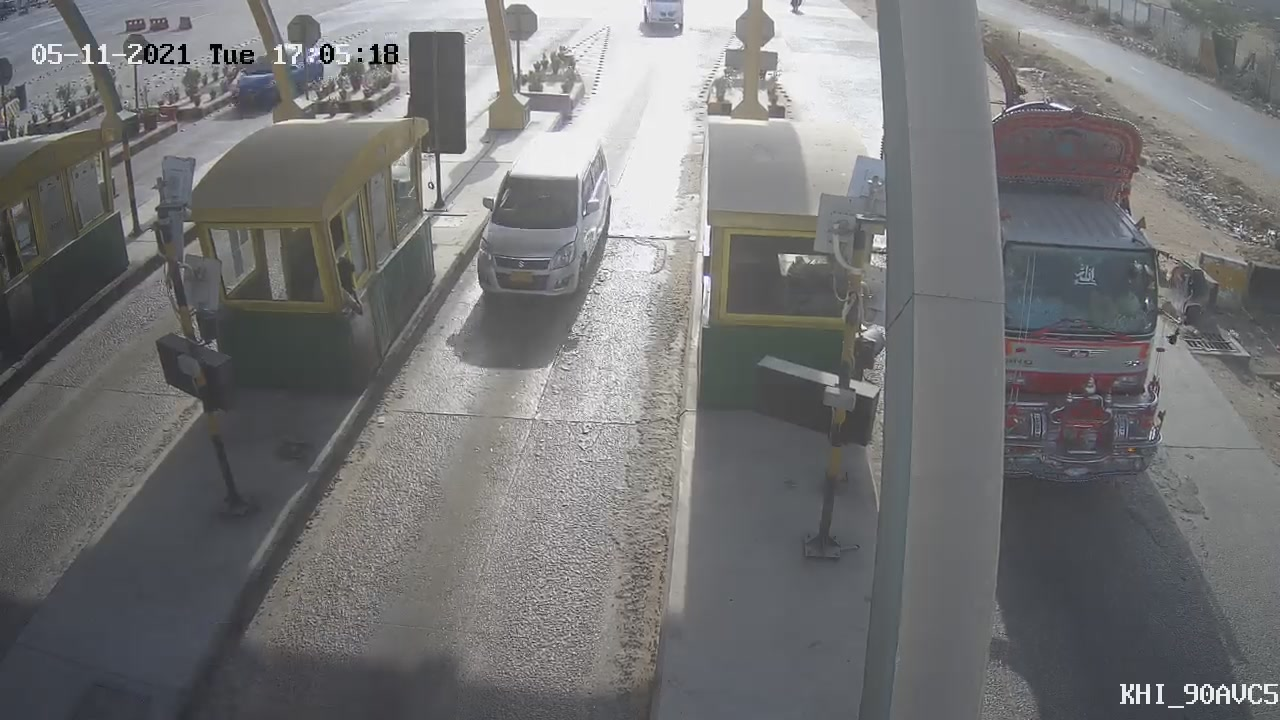F1: (453, 122, 631, 319)
